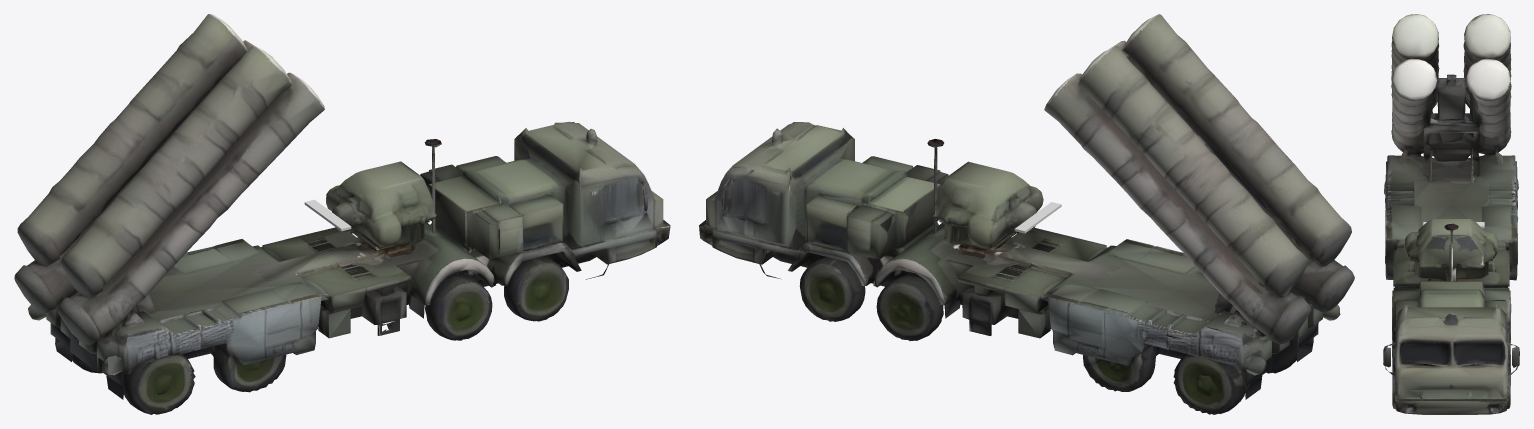
3 renders of one model, left to right at view 1: azimuth 30°, elevation 25°; view 2: azimuth 150°, elevation 25°; view 3: azimuth 270°, elevation 25°, orthographic. The views are drawn at different scales.
Visible parts, largest first — view 1: g_s400_hull; view 2: g_s400_hull; view 3: g_s400_hull.
Boxes of the visible parts, x1,y1,x2,y2 form: g_s400_hull: [14, 14, 670, 414]; g_s400_hull: [699, 14, 1354, 414]; g_s400_hull: [1383, 14, 1519, 414].
Size of the model in its own units: 13 by 6.9 by 3.08.
Materials: 2 (1 with a texture image).
